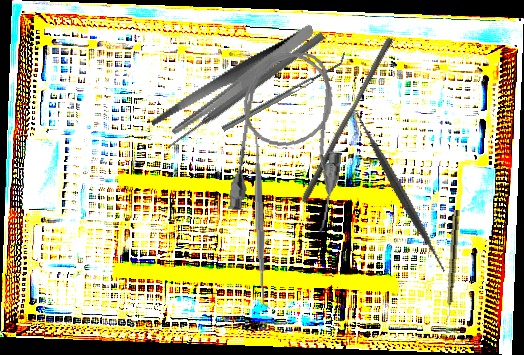Cannula: (226, 46, 354, 234)
Dressing Forceps: (137, 23, 331, 140)
Handpiece: (444, 209, 460, 323)
Pusher: (164, 30, 327, 152), (299, 33, 395, 207)
Spatula Surgical: (310, 102, 491, 282), (218, 52, 351, 132), (245, 122, 273, 310)
